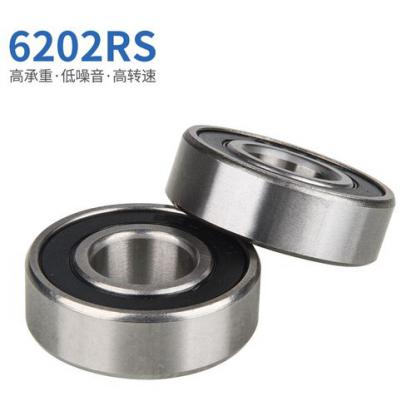FOD: (20, 198, 267, 382), (158, 119, 400, 270)
